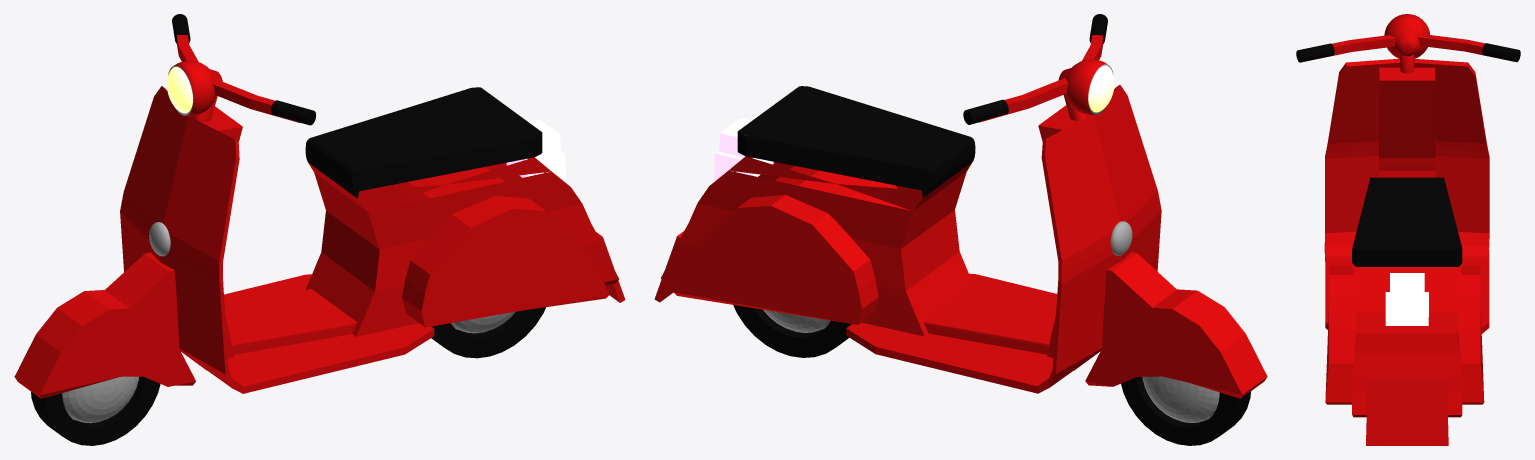
Rendered from scooter-gulli-bulli_noorulhasan.glb.
3 views of the same model, side by side, from view 1: azimuth 30°, elevation 25°; view 2: azimuth 150°, elevation 25°; view 3: azimuth 270°, elevation 25° (orthographic). The views are drawn at different scales.
Visible parts, largest first — view 1: Cylinder.001_0; view 2: Cylinder.001_0; view 3: Cylinder.001_0.
Boxes of the visible parts, left/top/right/bottom form: Cylinder.001_0: left=14, top=14, right=625, bottom=445; Cylinder.001_0: left=654, top=14, right=1267, bottom=445; Cylinder.001_0: left=1296, top=14, right=1520, bottom=445.
Bounding box in the file's own units: 3.25 × 1.94 × 1.33.
